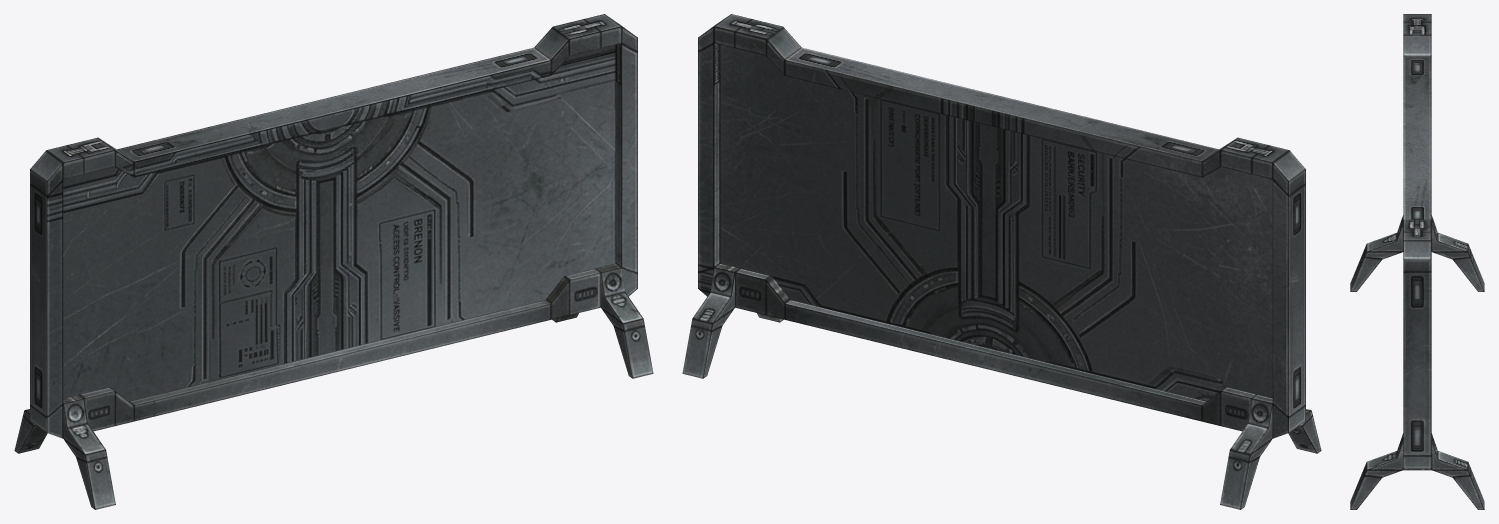
The model's file is barrier.glb.
3 views of the same model, side by side, from view 1: azimuth 30°, elevation 25°; view 2: azimuth 150°, elevation 25°; view 3: azimuth 270°, elevation 25° (orthographic). The views are drawn at different scales.
Parts seen in each view (by area): view 1: Barrier; view 2: Barrier; view 3: Barrier.
Part boxes in pixels (x1,y1,x2,y2): Barrier: (14, 14, 653, 509); Barrier: (682, 14, 1321, 509); Barrier: (1350, 14, 1484, 509).
Bounding box in the file's own units: 2.12 × 1.11 × 0.5012.
Materials: 1 (1 with a texture image).
